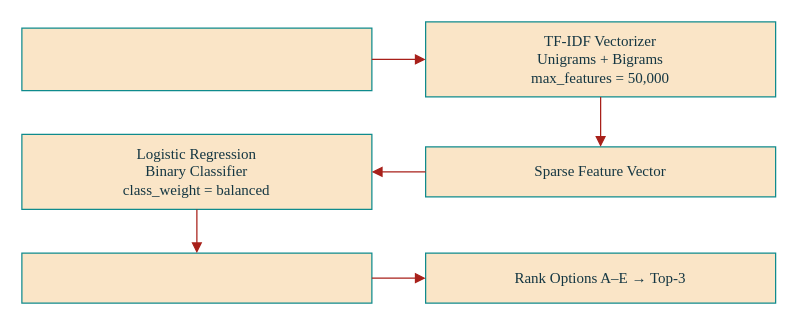
The diagram is 798 pixels wide and 325 high, and some of its shapes have lost their labels. The shapes that lost their labels are listed below. From the top down, each one's centre as x and y in pixels, then its label:
the point at 196,59: Question + Option prompt + " [SEP] " + option
the point at 196,277: P(y = 1 | text)
